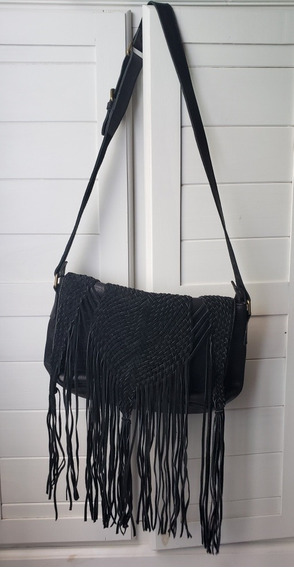cartera: (43, 3, 251, 414)
